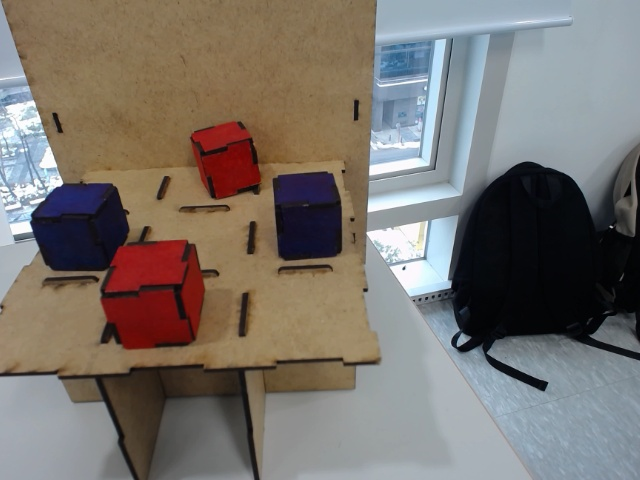blue: (31, 186, 126, 272), (271, 172, 347, 259)
red: (101, 237, 207, 352), (191, 122, 260, 200)
